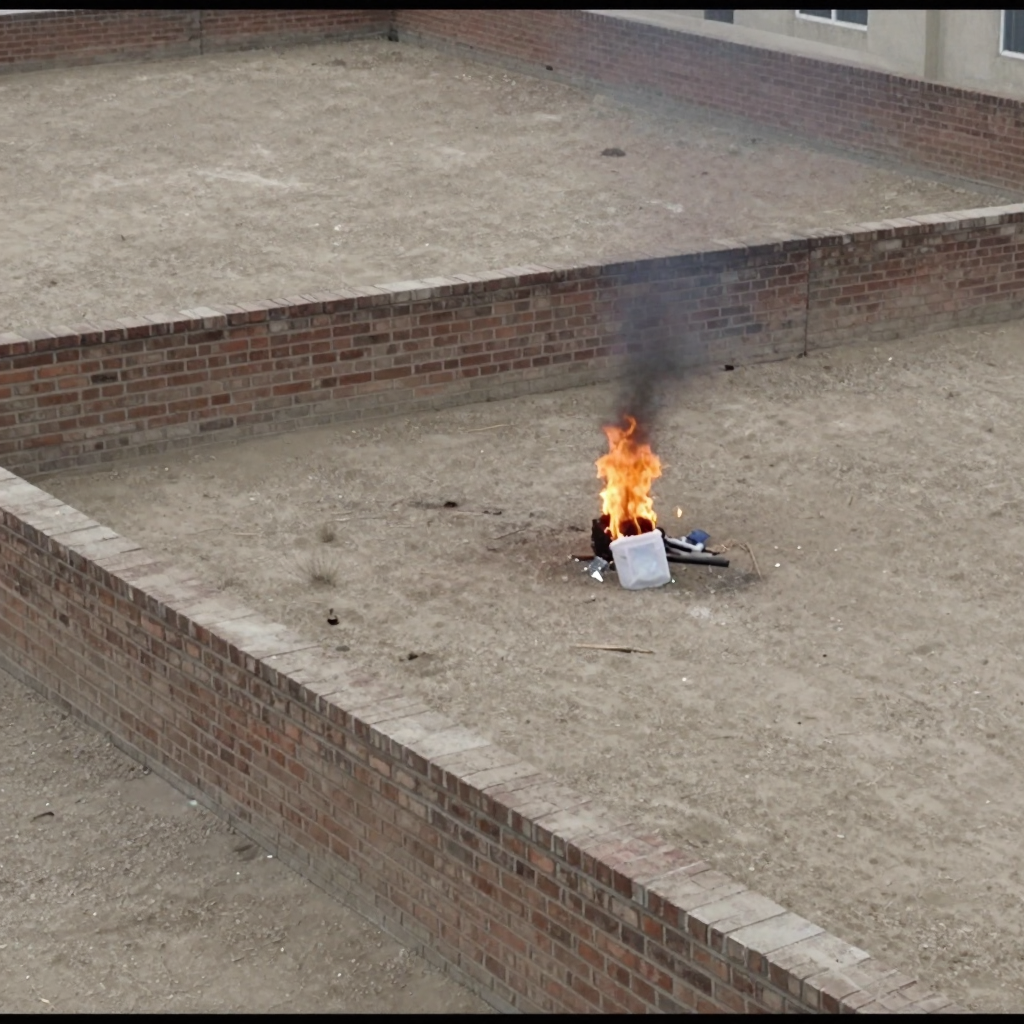Arson: (583, 426, 665, 540)
Explosion: (583, 248, 701, 428)
